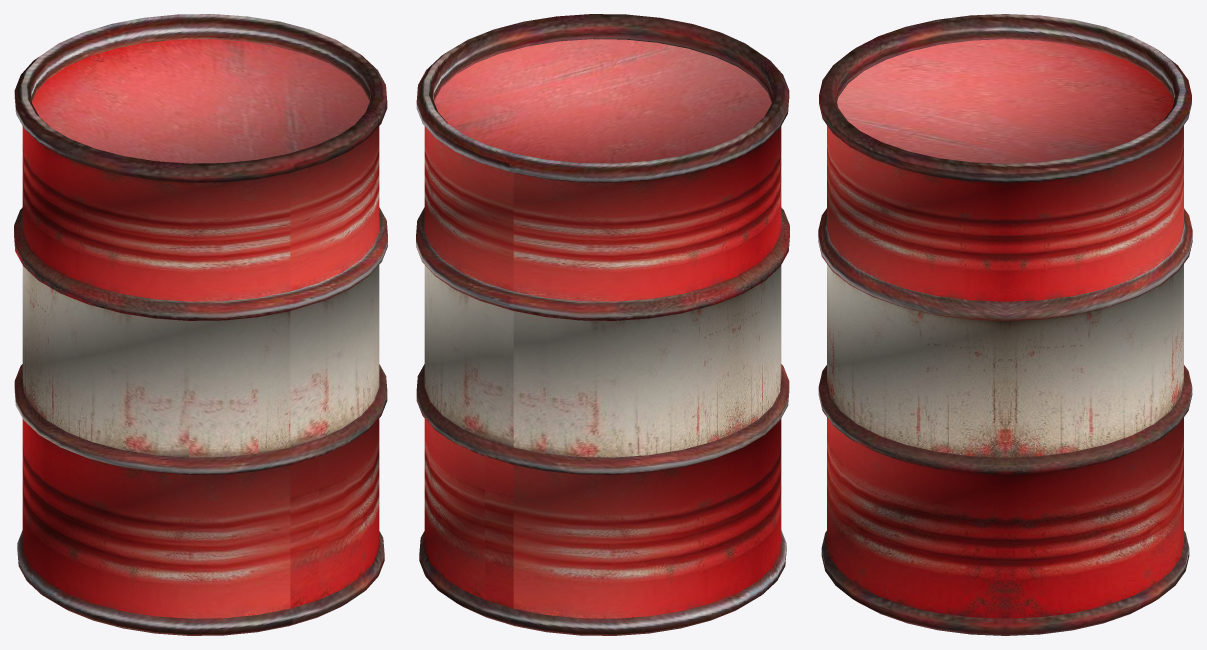
The model's file is barrel.glb.
3 views of the same model, side by side, from view 1: azimuth 30°, elevation 25°; view 2: azimuth 150°, elevation 25°; view 3: azimuth 270°, elevation 25° (orthographic).
Parts seen in each view (by area): view 1: Barrel; view 2: Barrel; view 3: Barrel.
Boxes of the visible parts, x1,y1,x2,y2 form: Barrel: (14,14,387,635); Barrel: (416,14,789,635); Barrel: (818,14,1192,635).
Bounding box in the file's own units: 2.38 × 3.3 × 2.38.
Materials: 1 (1 with a texture image).
